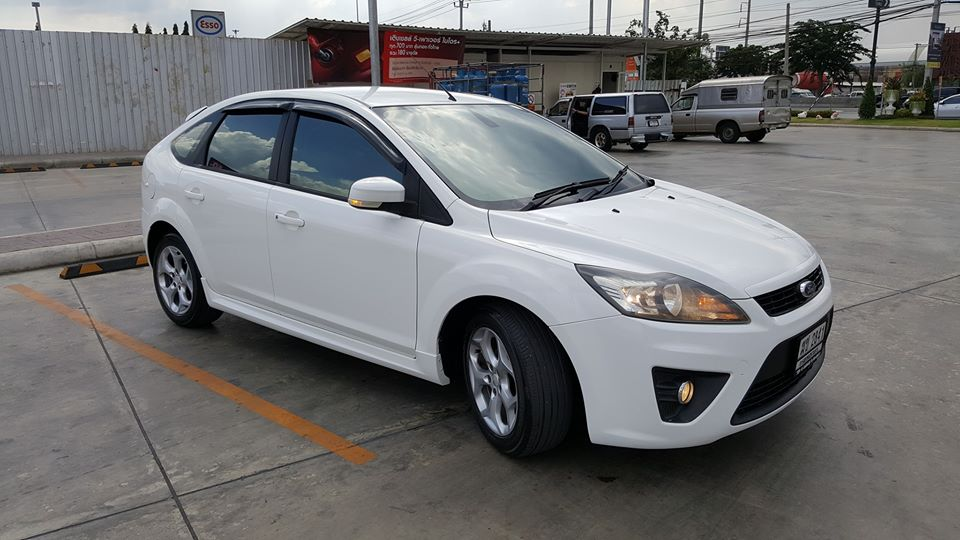sedan: (136, 85, 838, 461)
